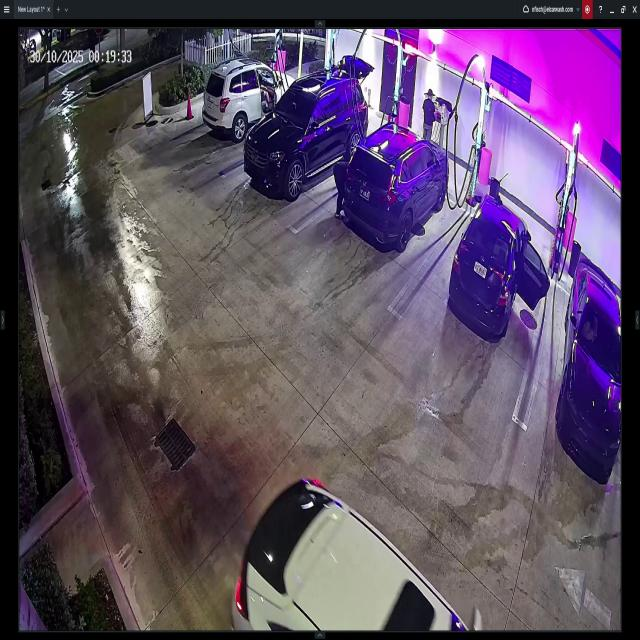Car: (232, 478, 481, 632), (245, 56, 367, 206), (446, 191, 544, 337), (558, 253, 620, 481), (339, 129, 448, 247), (203, 61, 303, 137)
